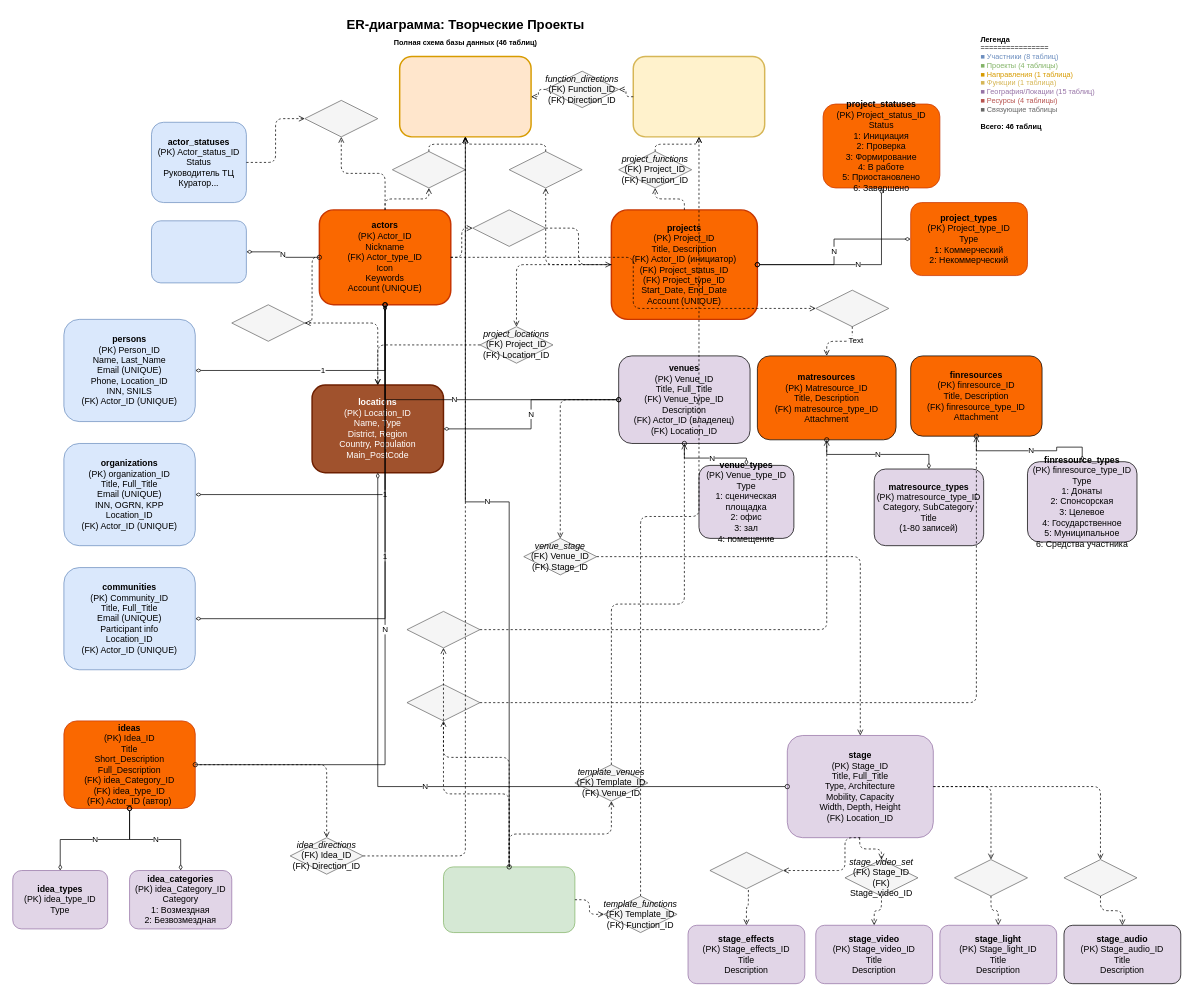
Some shapes in this 1194 by 996 pixel diagram are drawn without their labels. The shapes that lost their labels are listed below. From the top down, each one's box as (x1, y1, x2, y2) in pixels, then its label:
(399, 55, 531, 137): directions (PK) Direction_ID Type, Subtype Title, Description (1-221 записи)
(632, 55, 765, 137): functions (PK) Function_ID Title Description Keywords (1-432 записи)
(304, 100, 378, 137): statuses_actors (FK) Actor_ID (FK) Actor_status_ID
(392, 151, 465, 188): actor_directions (FK) Actor_ID (FK) Direction_ID
(508, 151, 582, 188): project_directions (FK) Project_ID (FK) Direction_ID
(472, 209, 546, 246): actor_projects (FK) Actor_ID (FK) Project_ID
(151, 220, 246, 283): actor_types (PK) Actor_type_ID Type 1: Человек 2: Сообщество 3: Организация
(231, 304, 305, 341): actor_locations (FK) Actor_ID (FK) Location_ID
(815, 289, 889, 327): matresource_owner (FK) Matresource_ID (FK) Actor_ID
(406, 611, 480, 648): template_matresources (FK) Template_ID (FK) Matresource_ID
(406, 684, 480, 721): template_finresources (FK) Template_ID (FK) finresource_ID
(709, 852, 783, 889): stage_effects_set (FK) Stage_ID (FK) Stage_effects_ID
(954, 859, 1027, 896): stage_light_set (FK) Stage_ID (FK) Stage_light_ID
(1063, 859, 1137, 896): stage_audio_set (FK) Stage_ID (FK) Stage_audio_ID
(443, 866, 575, 933): templates (PK) Template_ID Title, Description (FK) Direction_ID
